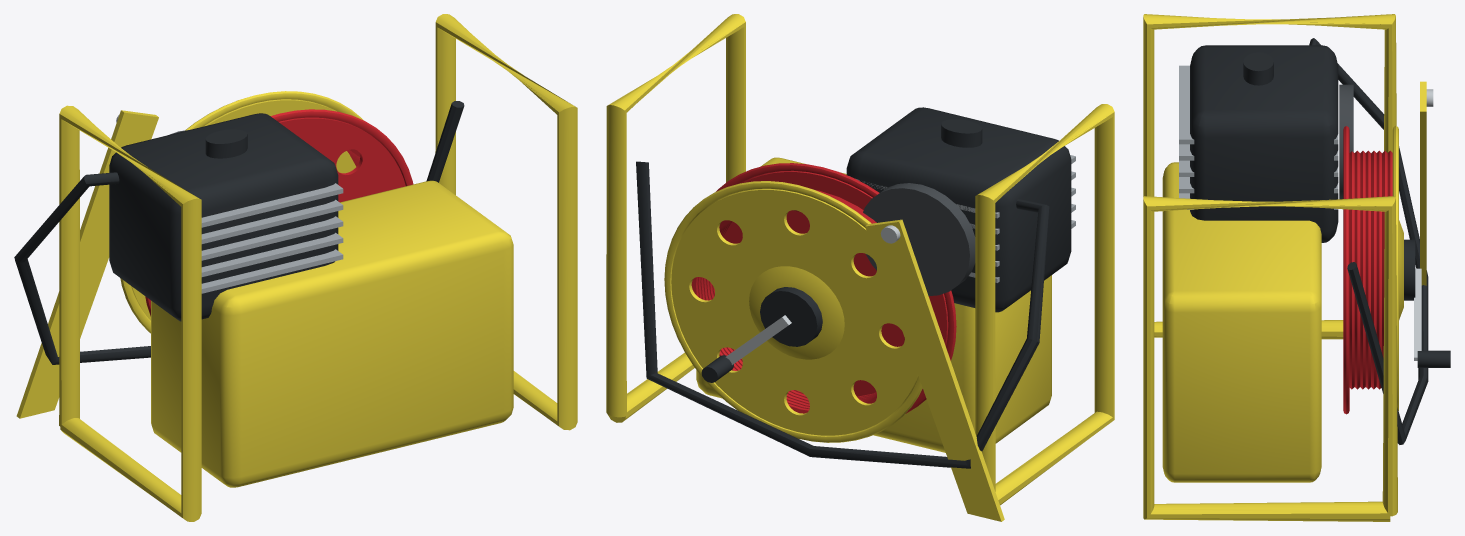
File: ob_hydraulic_power_unit.glb
3 renders of one model, left to right at view 1: azimuth 30°, elevation 25°; view 2: azimuth 150°, elevation 25°; view 3: azimuth 270°, elevation 25°, orthographic. The views are drawn at different scales.
Parts seen in each view (by area): view 1: ob_hydraulic_power_unit; view 2: ob_hydraulic_power_unit; view 3: ob_hydraulic_power_unit.
Boxes of the visible parts, bbox=[...] form: ob_hydraulic_power_unit: bbox=[14, 14, 577, 521]; ob_hydraulic_power_unit: bbox=[606, 14, 1114, 521]; ob_hydraulic_power_unit: bbox=[1143, 14, 1450, 521].
Bounding box in the file's own units: 0.82 × 0.58 × 0.5.
